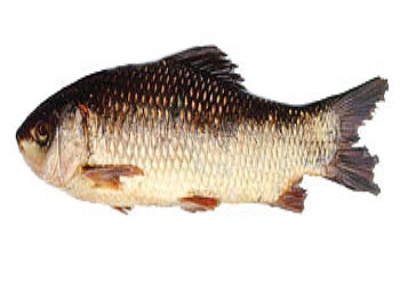rohu: (4, 43, 398, 219)
